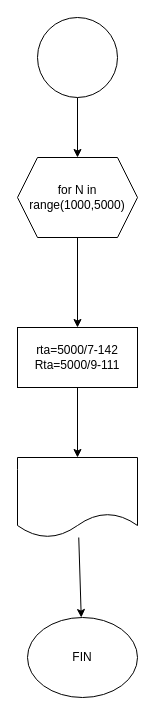
This 155x715 diagram has some shape labels left out. Here are the shapes that lost their labels. From the top down, the centre of each, then its label:
the point at 77,57: Elipse
the point at 77,497: Rta rta
